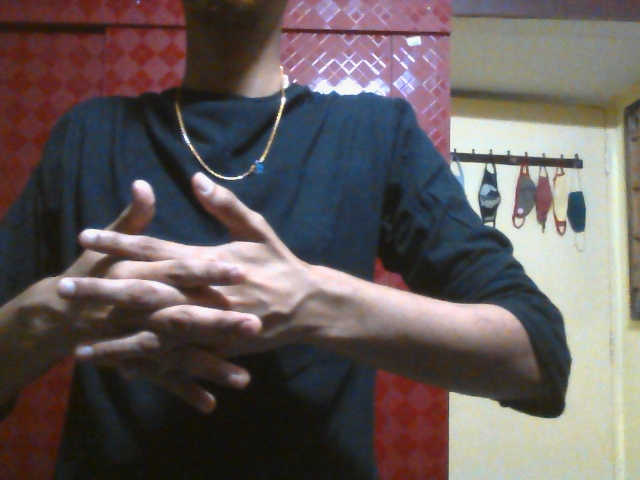W: (54, 174, 304, 414)
